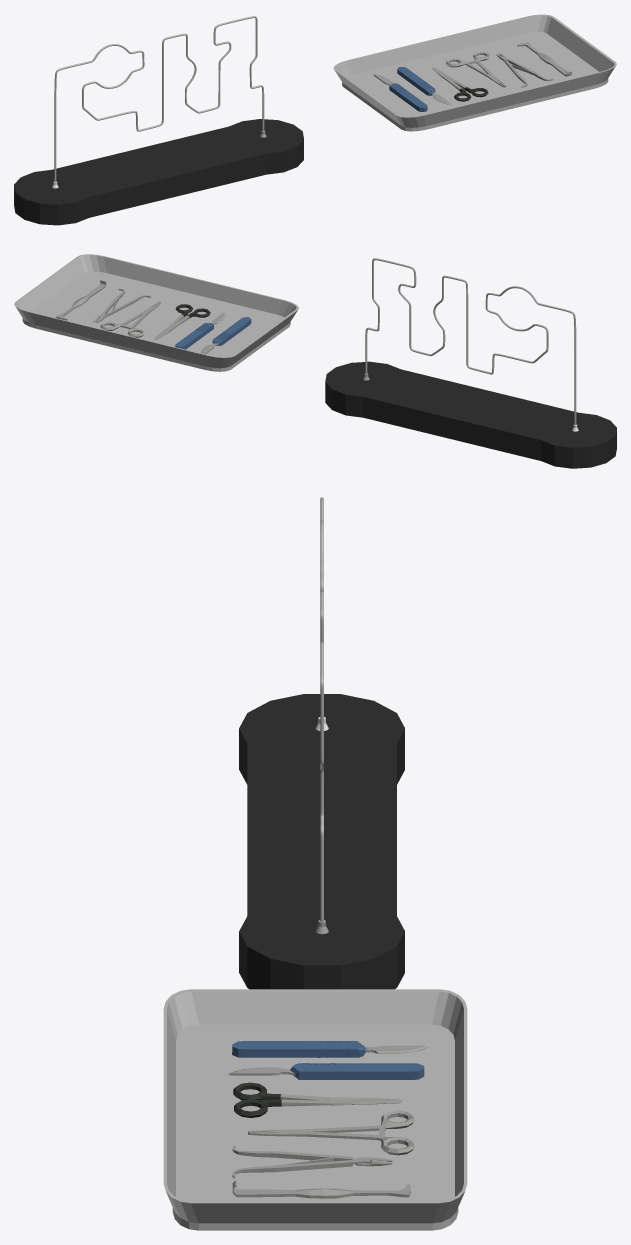
Rendered from Minijuegos.fbx.
3 renders of one model, top to bottom at view 1: azimuth 30°, elevation 25°; view 2: azimuth 150°, elevation 25°; view 3: azimuth 270°, elevation 25°, orthographic. The views are drawn at different scales.
Visible parts, largest first — view 1: Bandeja, Cylinder.004, NurbsPath, Bisturi, Bisturi.001, Tirejas, Tijeras, Alicate, Herramienta; view 2: Bandeja, Cylinder.004, NurbsPath, Bisturi, Tirejas, Tijeras, Bisturi.001, Alicate, Herramienta; view 3: Bandeja, Cylinder.004, Bisturi, Bisturi.001, Tirejas, Tijeras, Alicate, NurbsPath, Herramienta.
Boxes of the visible parts, box(x1,y1,x2,y2) form: Bandeja: box(333, 14, 616, 131); Cylinder.004: box(14, 119, 303, 225); NurbsPath: box(54, 16, 264, 182); Bisturi: box(373, 74, 427, 111); Bisturi.001: box(397, 67, 451, 104); Tirejas: box(446, 51, 505, 87); Tijeras: box(432, 67, 488, 101); Alicate: box(496, 53, 553, 87); Herramienta: box(517, 42, 571, 76); Bandeja: box(14, 254, 298, 371); Cylinder.004: box(325, 361, 616, 468); NurbsPath: box(365, 258, 576, 425); Bisturi: box(201, 317, 251, 354); Tirejas: box(100, 301, 160, 337); Tijeras: box(154, 304, 210, 339); Bisturi.001: box(175, 312, 225, 349); Alicate: box(93, 288, 151, 322); Herramienta: box(56, 280, 106, 320); Bandeja: box(163, 989, 467, 1230); Cylinder.004: box(239, 694, 404, 989); Bisturi: box(232, 1041, 427, 1057); Bisturi.001: box(228, 1063, 424, 1079); Tirejas: box(248, 1110, 414, 1155); Tijeras: box(233, 1082, 402, 1117); Alicate: box(232, 1145, 392, 1178); NurbsPath: box(320, 497, 323, 921); Herramienta: box(232, 1180, 410, 1198).
Bounding box in the file's own units: 5301 × 1348 × 1238.
